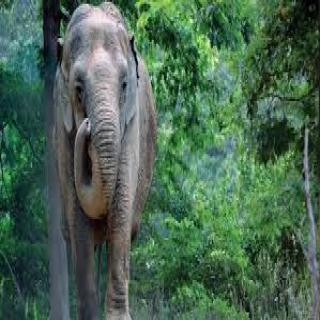Elephant: (52, 2, 162, 320)
